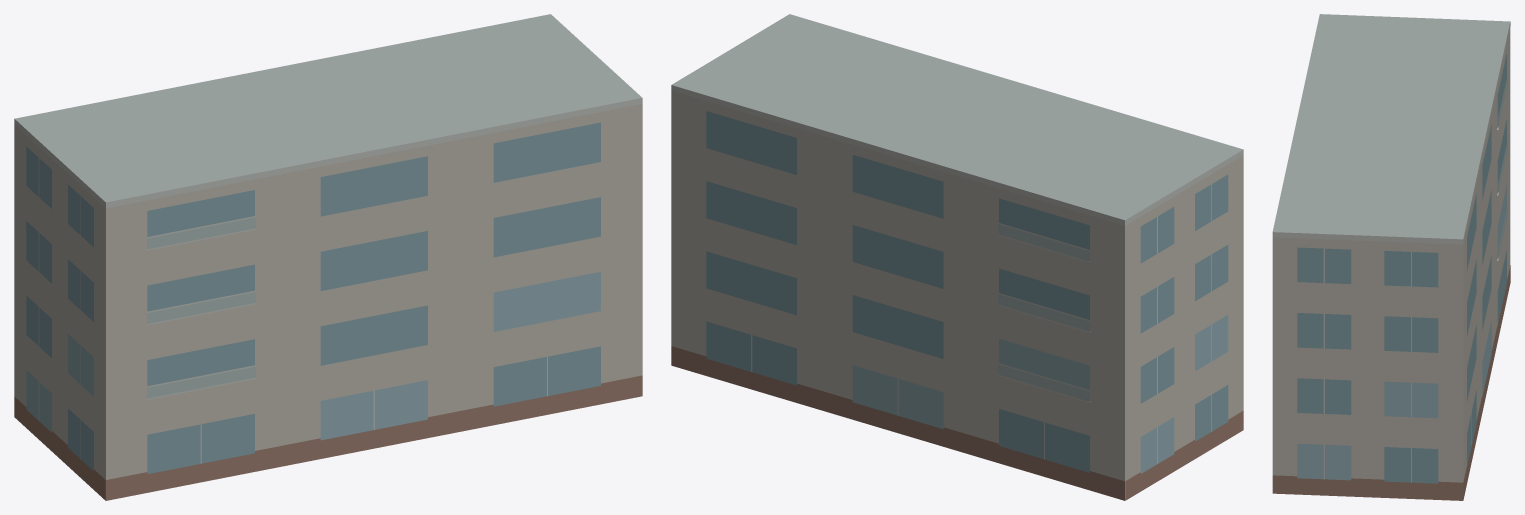
Rendered from residential-57e08d4d-358a-4eba-af83-52b13de4b59a.glb.
3 views of the same model, side by side, from view 1: azimuth 30°, elevation 25°; view 2: azimuth 150°, elevation 25°; view 3: azimuth 270°, elevation 25° (orthographic). The views are drawn at different scales.
Parts seen in each view (by area): view 1: residential-57e08d4d-358a-4eba-af83-52b13de4b59a.tmp; view 2: residential-57e08d4d-358a-4eba-af83-52b13de4b59a.tmp; view 3: residential-57e08d4d-358a-4eba-af83-52b13de4b59a.tmp.
Boxes of the visible parts, <box> form: residential-57e08d4d-358a-4eba-af83-52b13de4b59a.tmp: <box>14,14,642,500</box>; residential-57e08d4d-358a-4eba-af83-52b13de4b59a.tmp: <box>671,14,1243,500</box>; residential-57e08d4d-358a-4eba-af83-52b13de4b59a.tmp: <box>1272,14,1510,500</box>.
Size of the model in its own units: 22.55 by 12.2 by 10.06.
